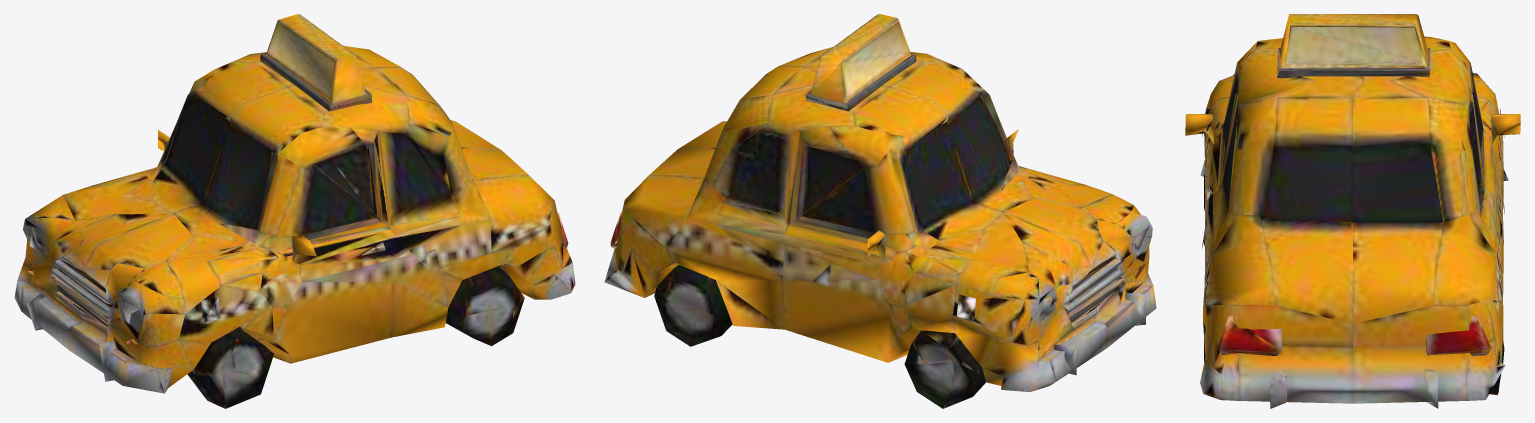
Rendered from 52-taxi.glb.
The picture shows the model from 3 angles, left to right: view 1: azimuth 30°, elevation 25°; view 2: azimuth 150°, elevation 25°; view 3: azimuth 270°, elevation 25°; orthographic projection. The views are drawn at different scales.
Parts seen in each view (by area): view 1: geometry_0; view 2: geometry_0; view 3: geometry_0.
Boxes of the visible parts, x1,y1,x2,y2 form: geometry_0: (14,14,575,408); geometry_0: (604,14,1156,408); geometry_0: (1185,14,1520,408).
Bounding box in the file's own units: 0.9429 × 0.5678 × 0.5439.
Materials: 1 (1 with a texture image).
